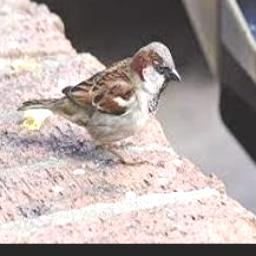Sparrow: (18, 40, 182, 163)
